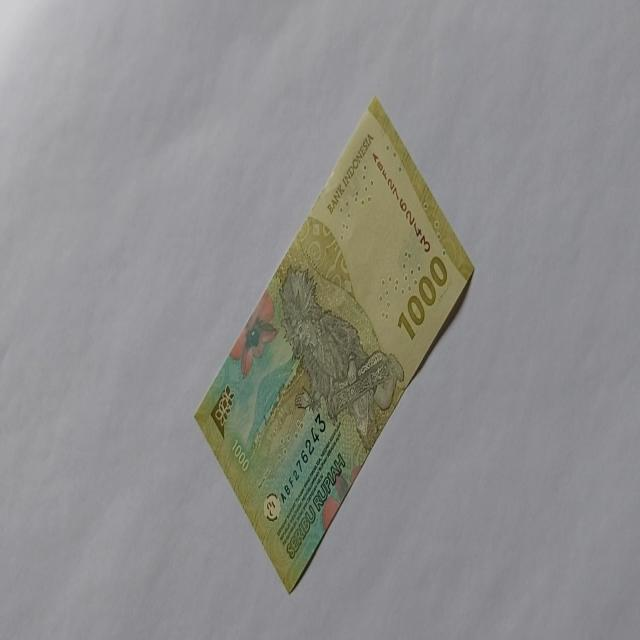seribu rupiah kertas: (193, 93, 474, 594)
